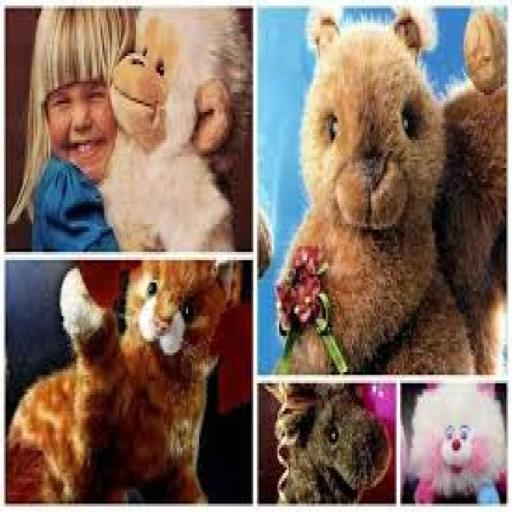baby: (6, 0, 136, 263)
